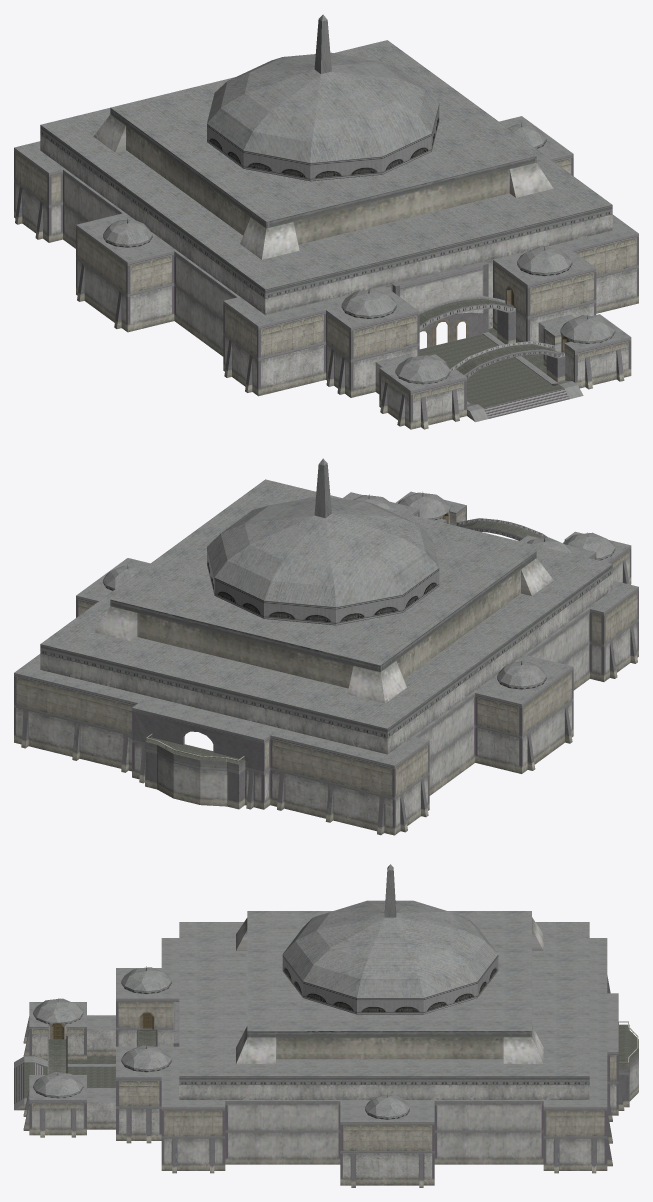
File: mun_corl_capitol_s01_r0_mesh_l2.fbx
3 renders of one model, top to bottom at view 1: azimuth 30°, elevation 25°; view 2: azimuth 150°, elevation 25°; view 3: azimuth 270°, elevation 25°, orthographic. The views are drawn at different scales.
Parts seen in each view (by area): view 1: mesh_node; view 2: mesh_node; view 3: mesh_node.
Boxes of the visible parts, box(x1,y1,x2,y2) form: mesh_node: box(14, 14, 638, 429); mesh_node: box(14, 458, 638, 835); mesh_node: box(14, 864, 638, 1187).
Size of the model in its own units: 84.36 by 43.08 by 110.
